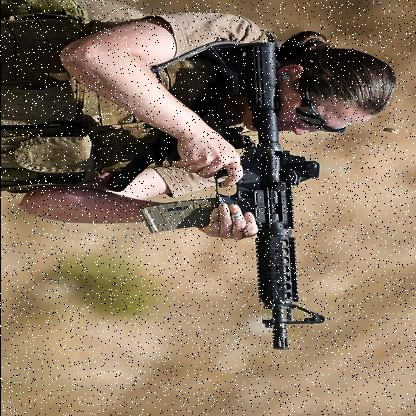rifle: (143, 40, 304, 360)
